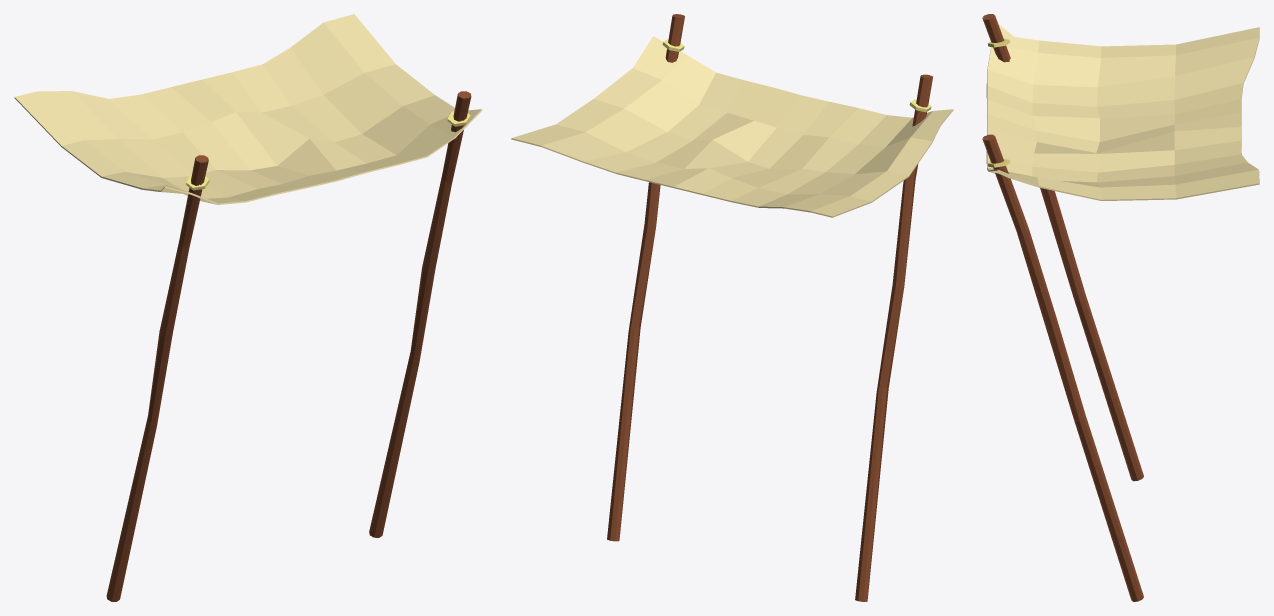
The model's file is shelter .fbx.
3 renders of one model, left to right at view 1: azimuth 30°, elevation 25°; view 2: azimuth 150°, elevation 25°; view 3: azimuth 270°, elevation 25°, orthographic. The views are drawn at different scales.
Parts seen in each view (by area): view 1: shelter; view 2: shelter; view 3: shelter.
Boxes of the visible parts, x1,y1,x2,y2 form: shelter: (14,14,482,601); shelter: (511,14,953,601); shelter: (982,14,1259,601).
Bounding box in the file's own units: 138 × 193 × 103.
